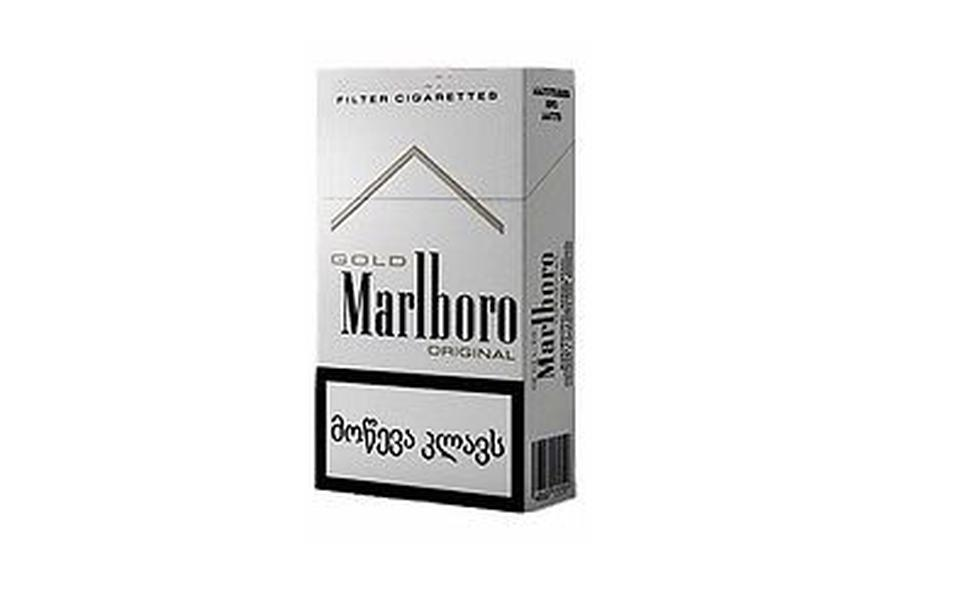marlboro_gold: (320, 71, 531, 487)
